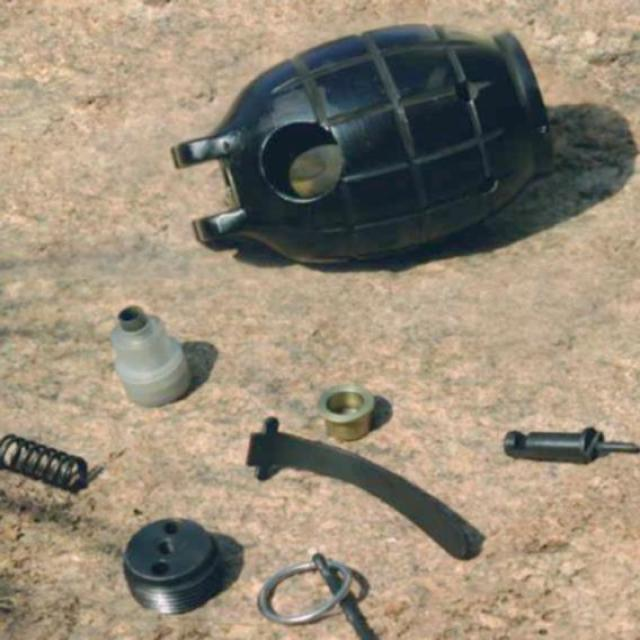grenade: (170, 29, 550, 272)
